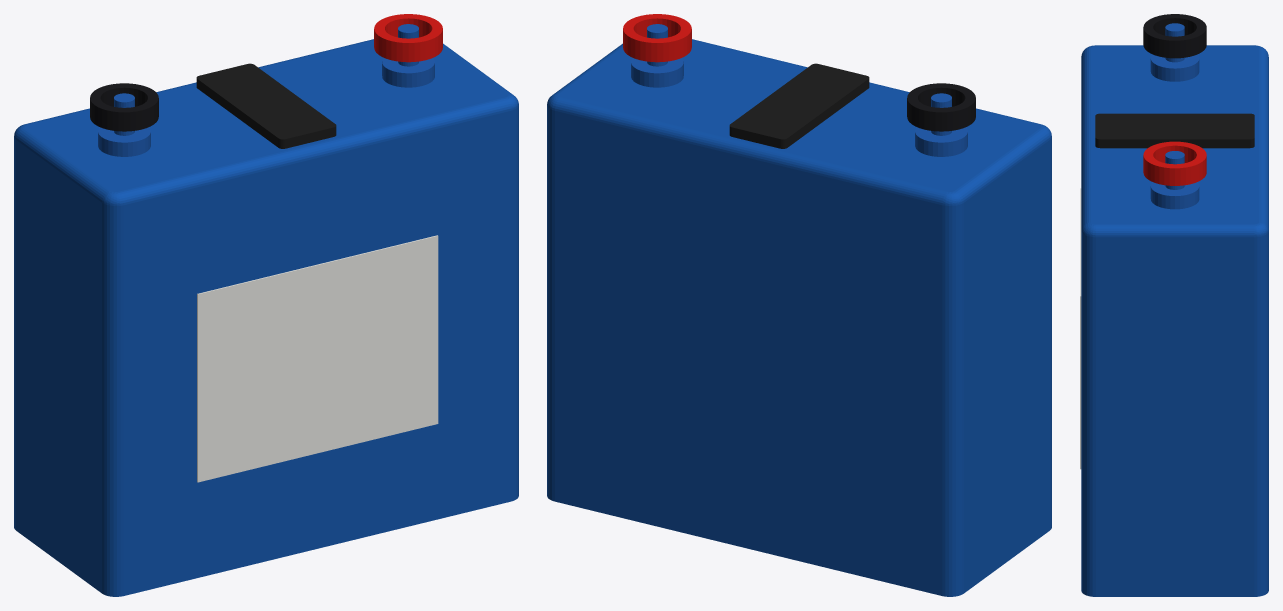
The model's file is LIB-BATT-24V-20AH.glb.
3 views of the same model, side by side, from view 1: azimuth 30°, elevation 25°; view 2: azimuth 150°, elevation 25°; view 3: azimuth 270°, elevation 25° (orthographic). The views are drawn at different scales.
Bounding box in the file's own units: 181 × 187 × 77.5.
